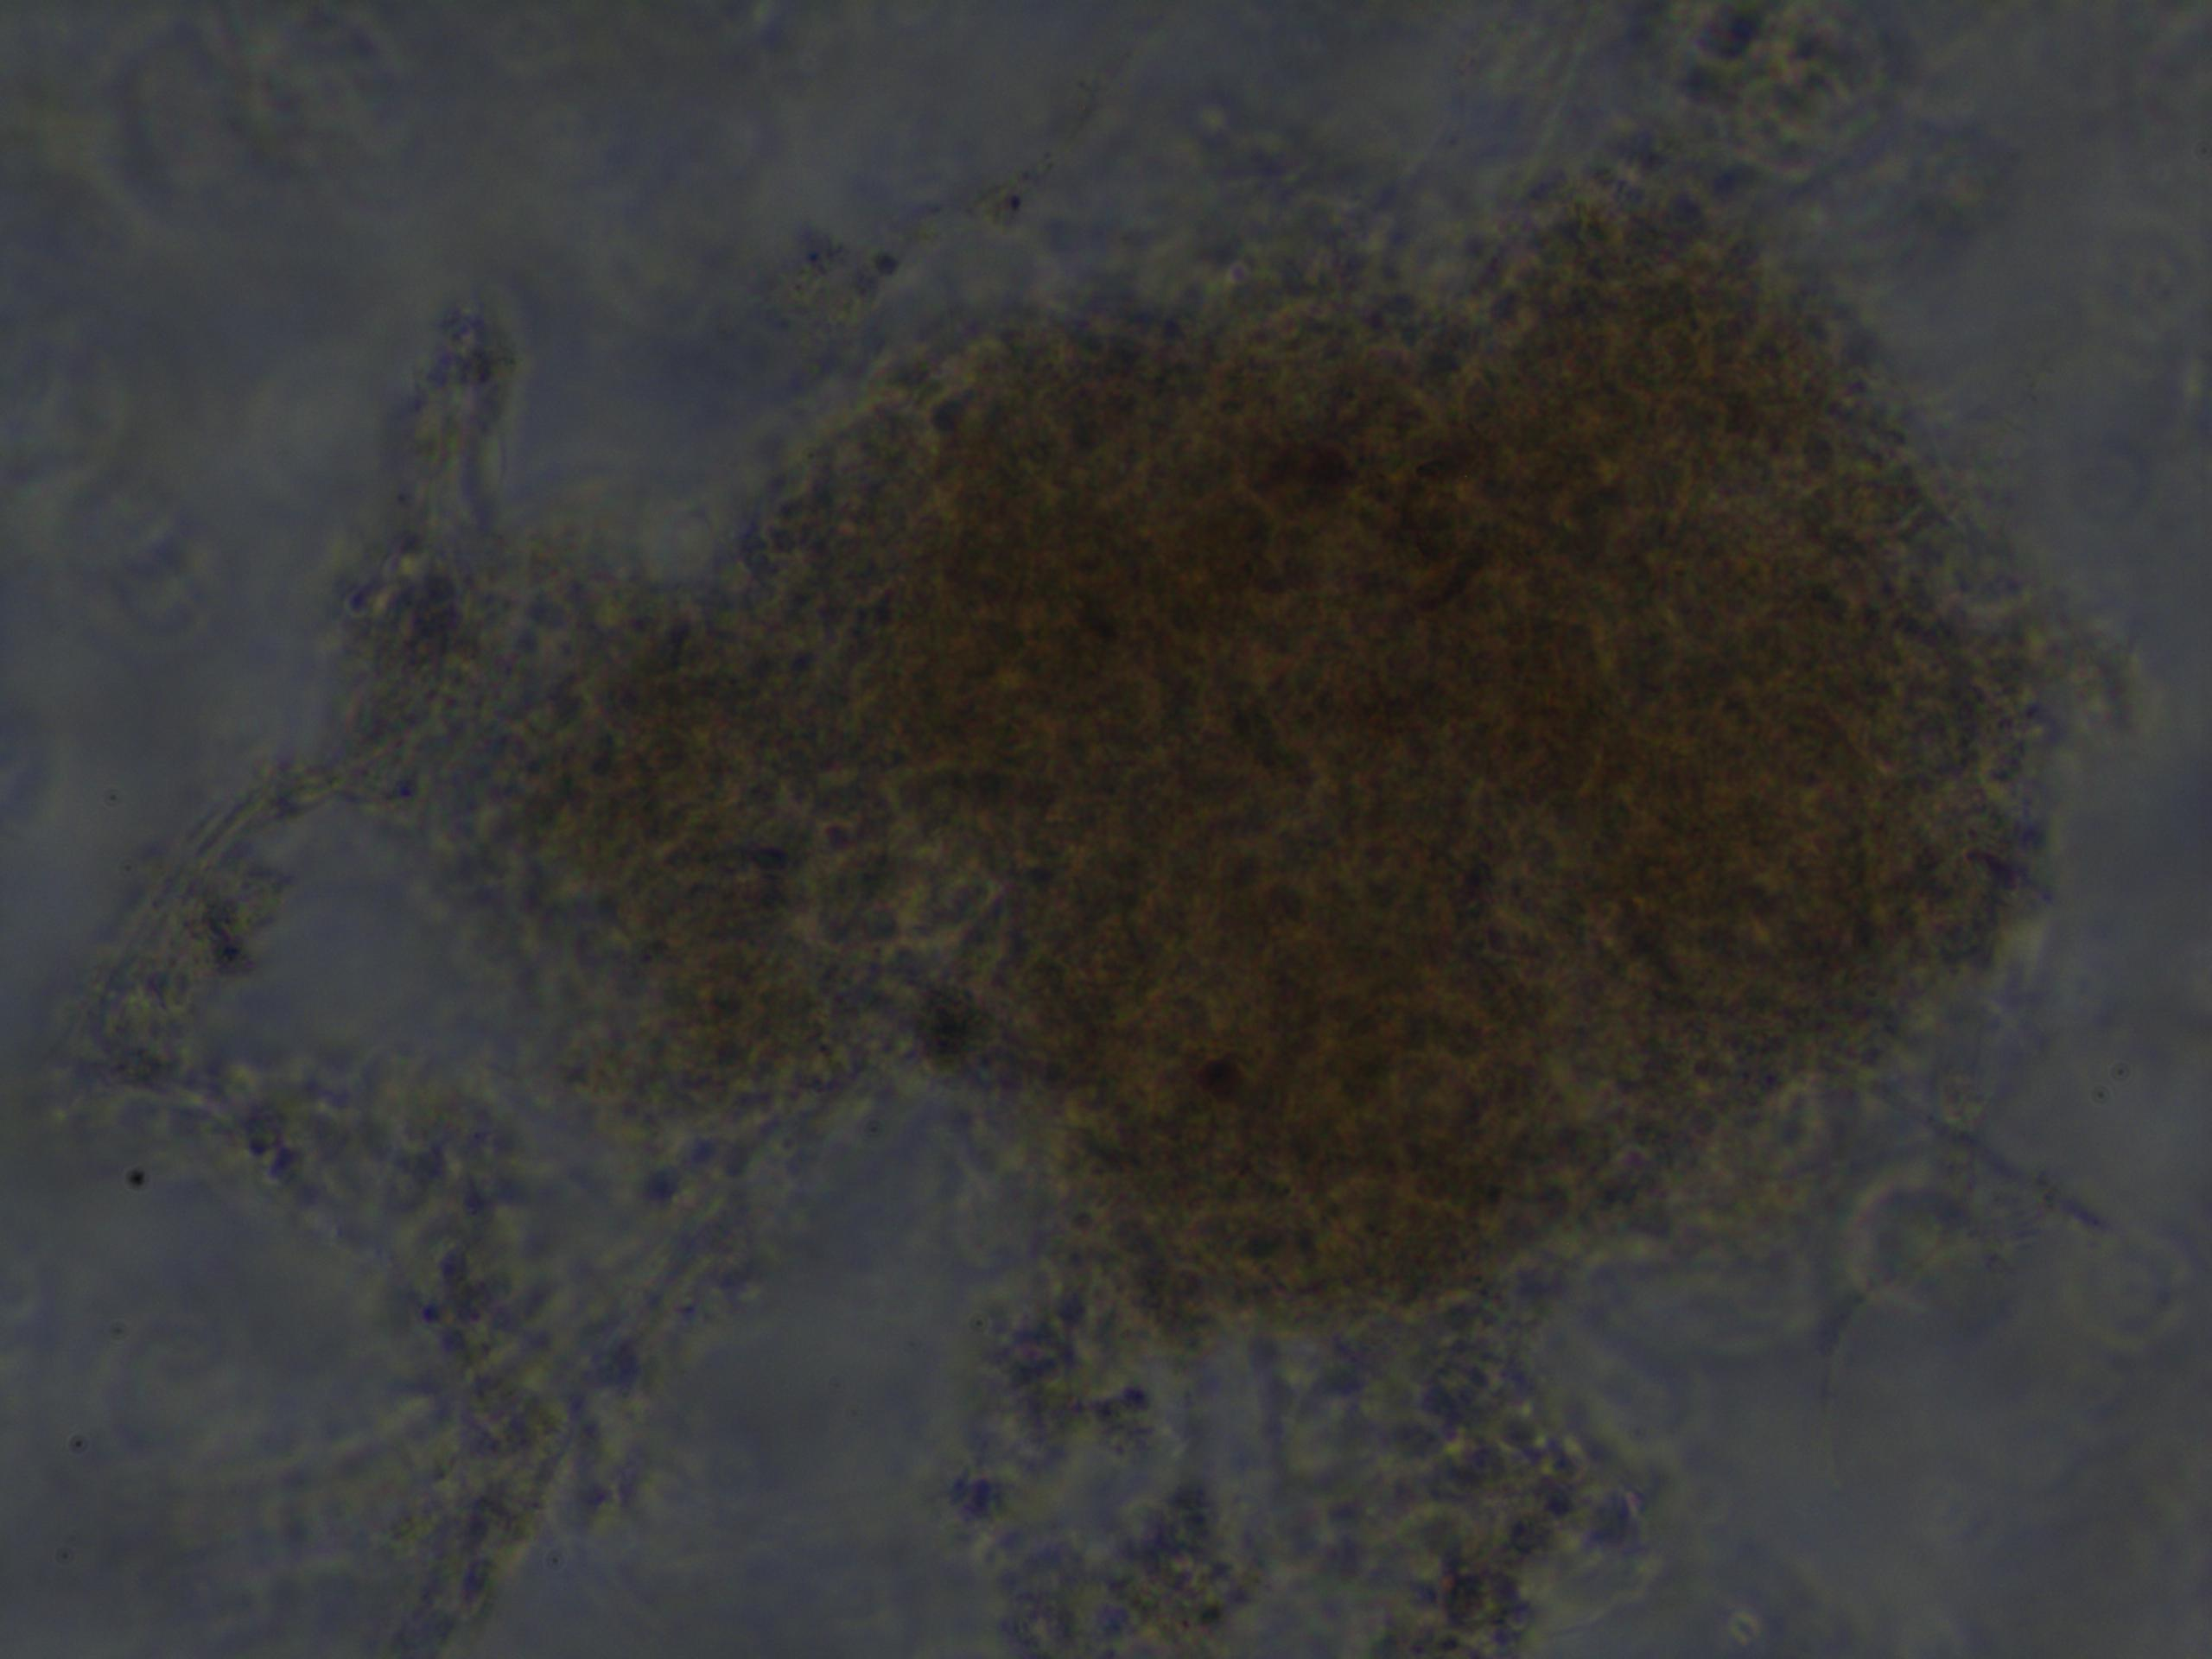filament: (113, 1054, 747, 1654), (49, 610, 455, 1046), (1794, 1061, 2123, 1251)
spherical_floc: (516, 169, 2060, 1345)
